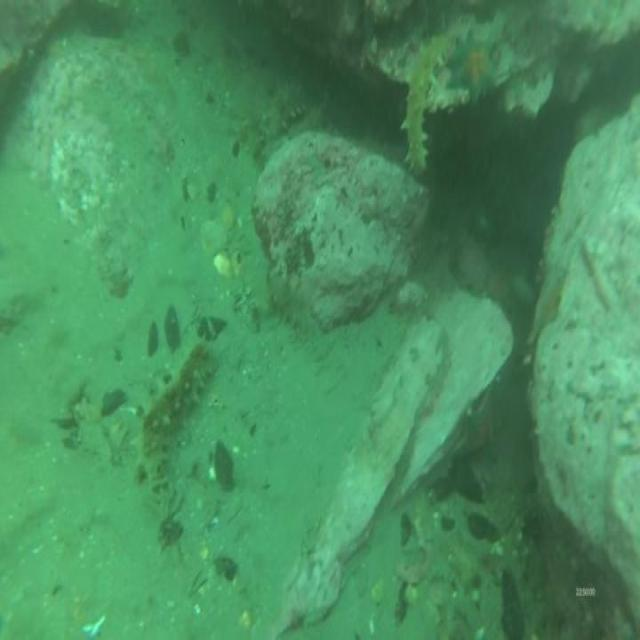holothurian: (133, 335, 217, 506), (402, 30, 452, 180), (260, 76, 312, 140)
starfish: (444, 22, 503, 109)
